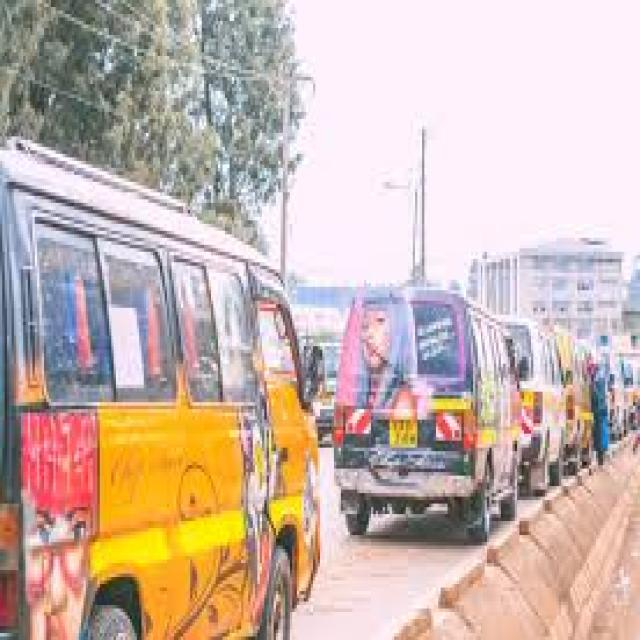matatu: (0, 113, 340, 640), (349, 277, 528, 571), (532, 314, 572, 490), (605, 339, 640, 441)
